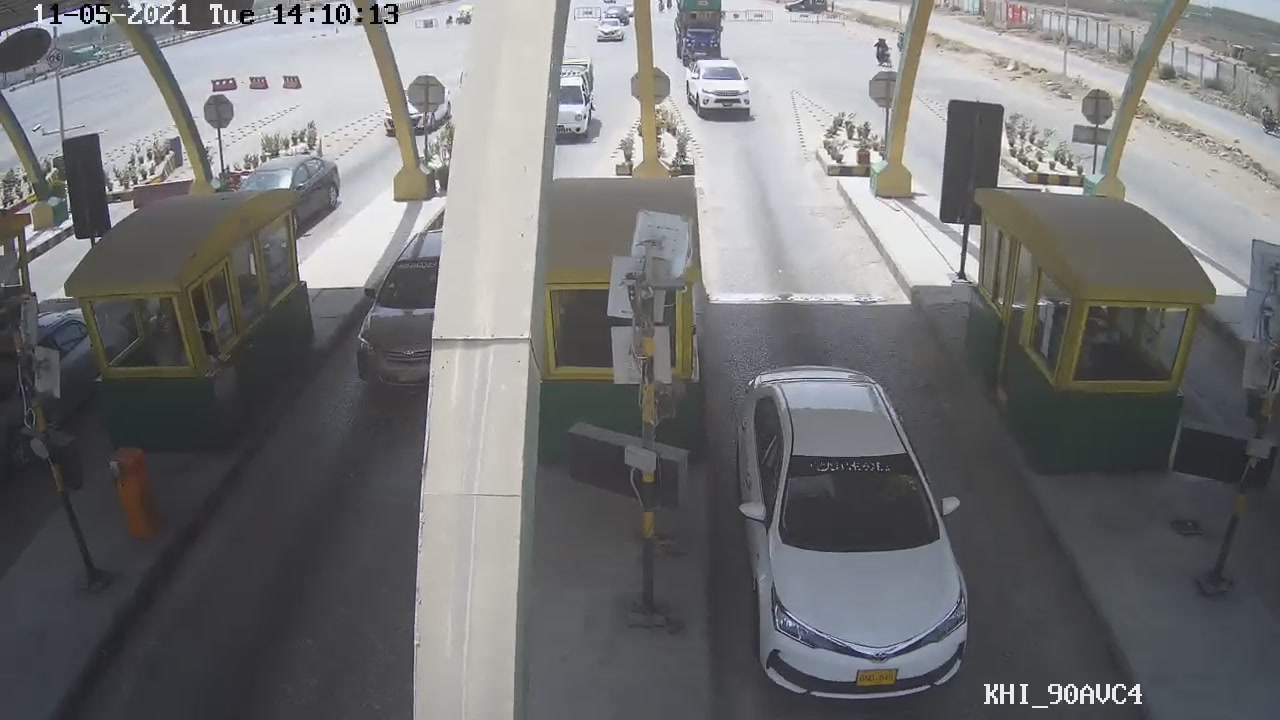F1: (733, 359, 973, 710)
